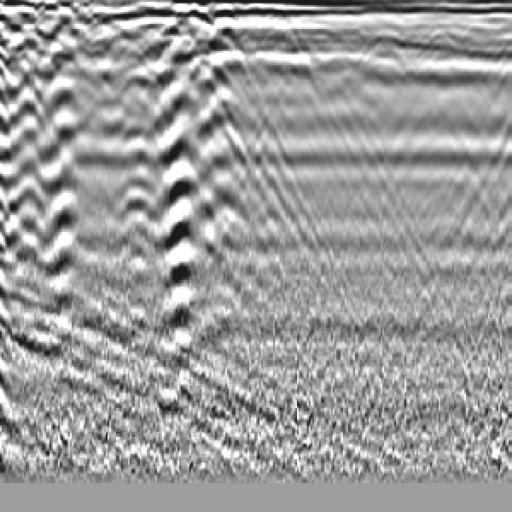metalic: (80, 48, 174, 255)
